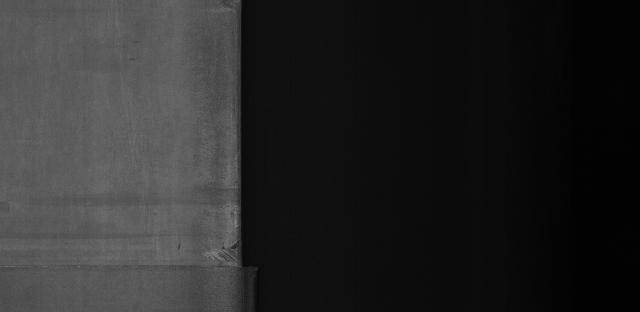welding_line: (5, 250, 266, 282)
